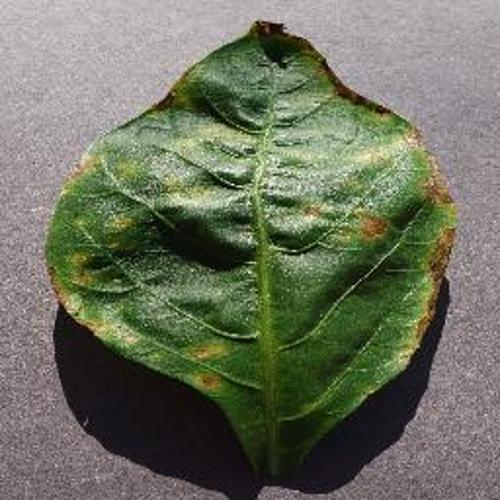Pepper: (46, 23, 456, 487)
